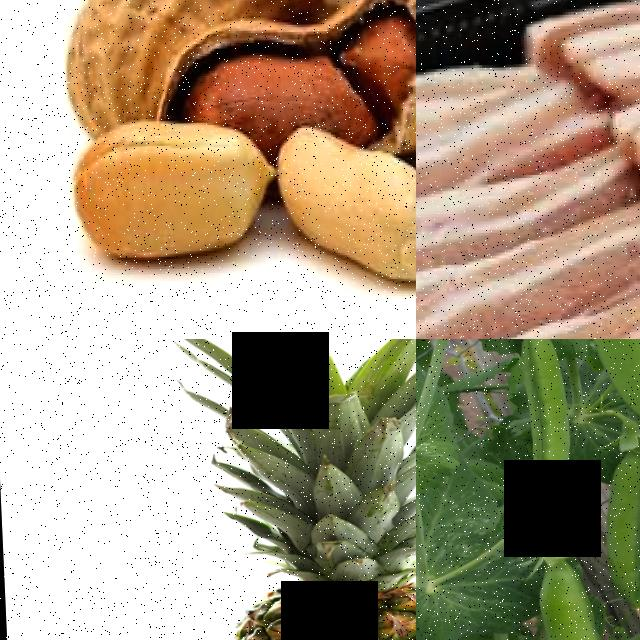peanuts: (62, 117, 263, 264), (272, 122, 416, 305), (354, 0, 416, 168)
pineapple: (194, 501, 416, 640)
pork belly: (416, 69, 608, 254), (416, 228, 640, 339), (539, 0, 640, 98)
